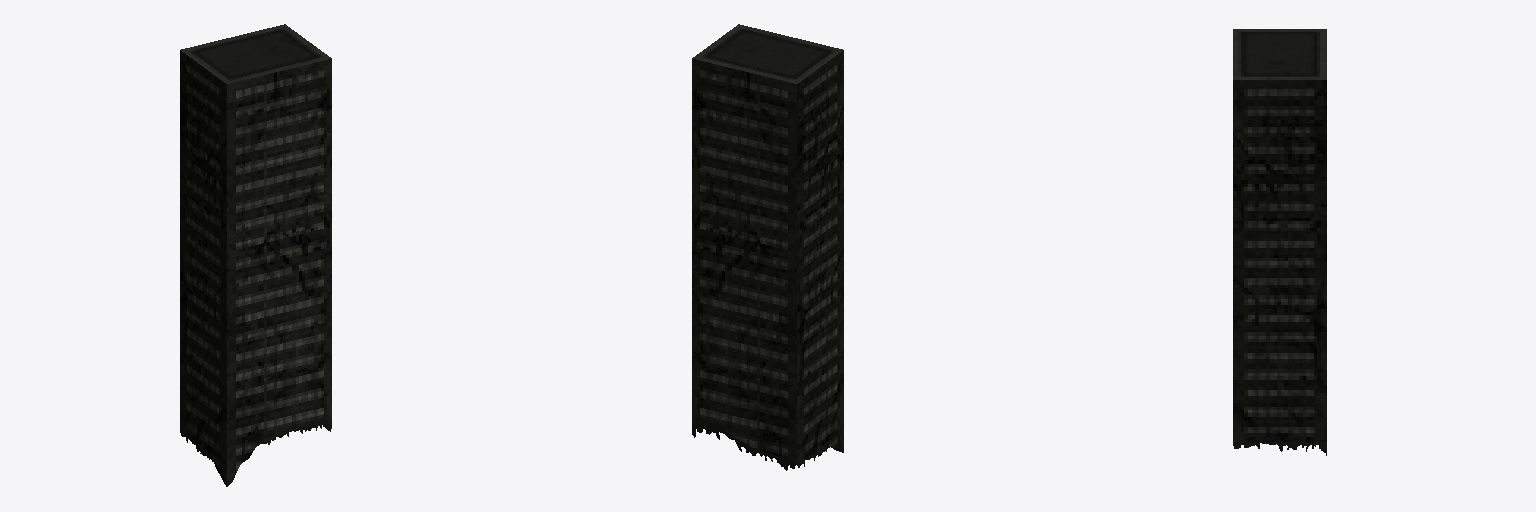
3 views of the same model, side by side, from view 1: azimuth 30°, elevation 25°; view 2: azimuth 150°, elevation 25°; view 3: azimuth 270°, elevation 25° (orthographic).
Parts seen in each view (by area): view 1: _000_building_1, _002_building_3, _003_building_4, _001_building_2, _007_building_4, _006_building_3, _005_building_2; view 2: _001_building_2, _000_building_1, _003_building_4, _007_building_4, _006_building_3, _005_building_2; view 3: _001_building_2, _002_building_3, _007_building_4, _006_building_3, _005_building_2.
Boxes of the visible parts, box(x1,y1,x2,y2) form: _000_building_1: box(180, 166, 292, 486); _002_building_3: box(227, 59, 331, 272); _003_building_4: box(180, 50, 283, 222); _001_building_2: box(287, 210, 331, 429); _007_building_4: box(181, 31, 283, 83); _006_building_3: box(281, 40, 331, 69); _005_building_2: box(258, 24, 305, 53); _001_building_2: box(692, 59, 760, 446); _000_building_1: box(751, 133, 843, 462); _003_building_4: box(719, 50, 843, 290); _007_building_4: box(720, 36, 842, 83); _006_building_3: box(714, 24, 784, 44); _005_building_2: box(692, 43, 754, 158); _001_building_2: box(1233, 80, 1326, 441); _002_building_3: box(1233, 80, 1282, 228); _007_building_4: box(1233, 29, 1326, 65); _006_building_3: box(1233, 57, 1282, 79); _005_building_2: box(1268, 63, 1326, 79).
Size of the model in its own units: 5.54 by 20.28 by 4.28.
Materials: 3 (3 with a texture image).